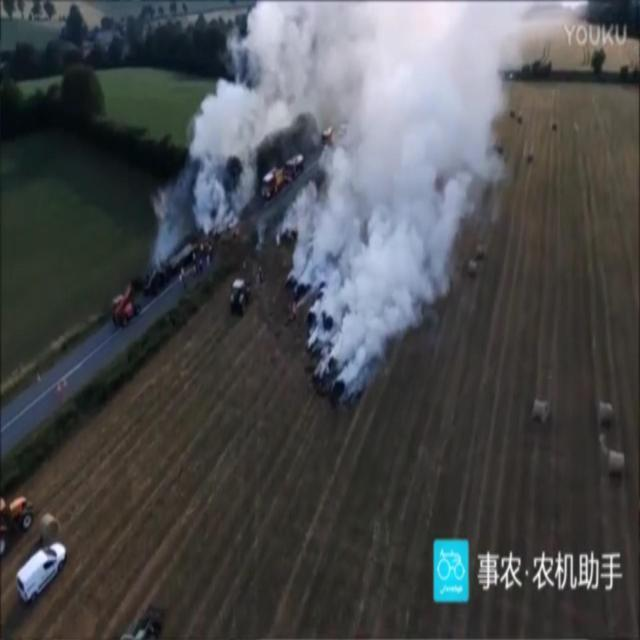Smoke: (148, 1, 533, 404)
